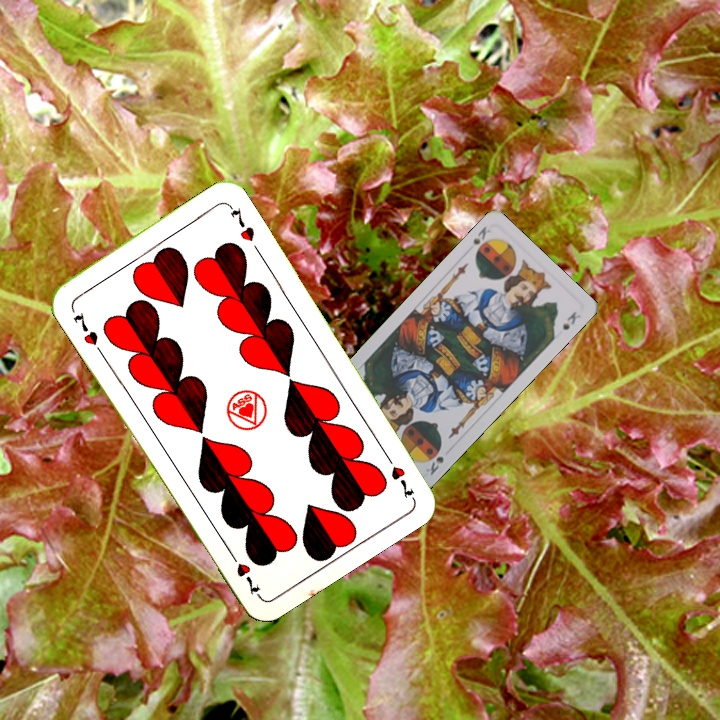H7: (379, 448, 417, 501), (69, 309, 101, 348)
SK: (469, 222, 493, 258), (422, 452, 446, 478)
